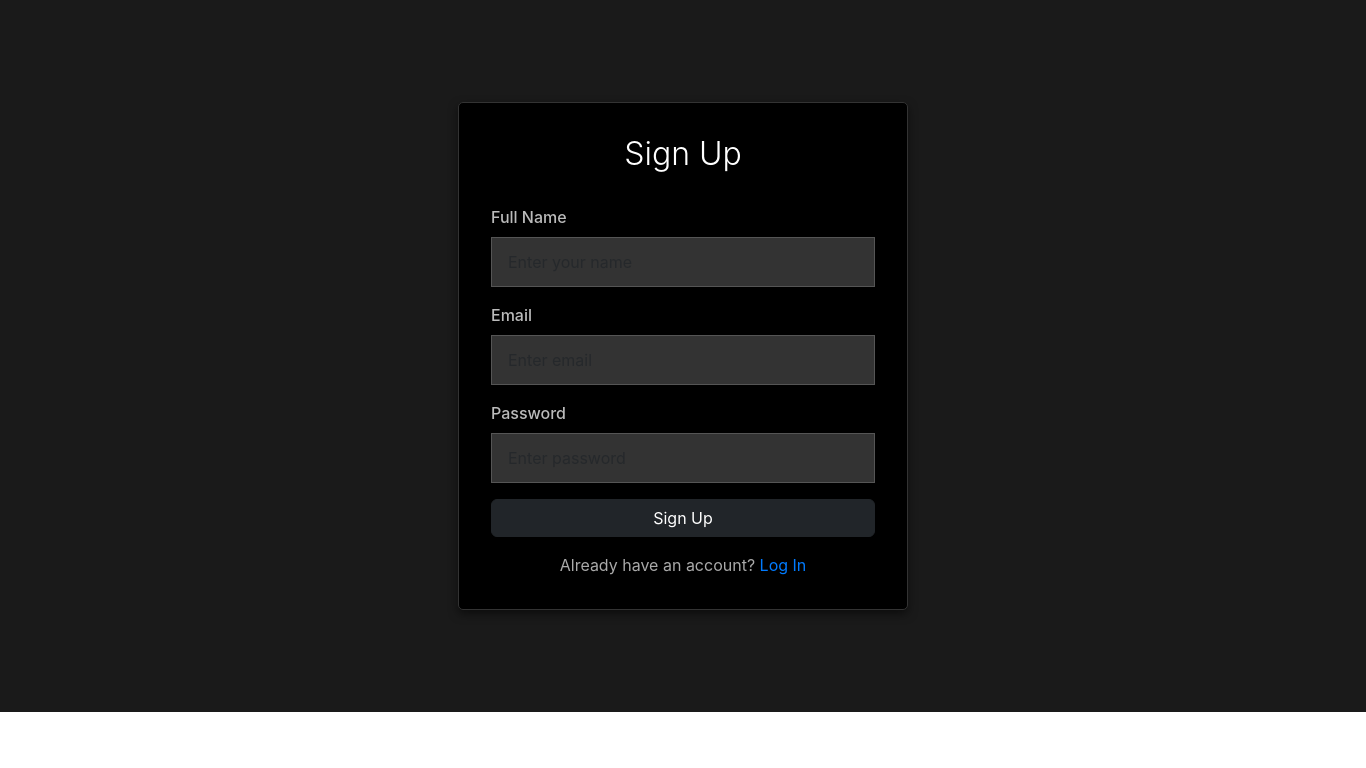
Test: EXTRA: AdminOrdersPage + SignupPage › SignupPage shows error on failed signup
In the field with placeholder "Enter your name": (683, 262) 491,237 -> 875,287, type "Nisa"
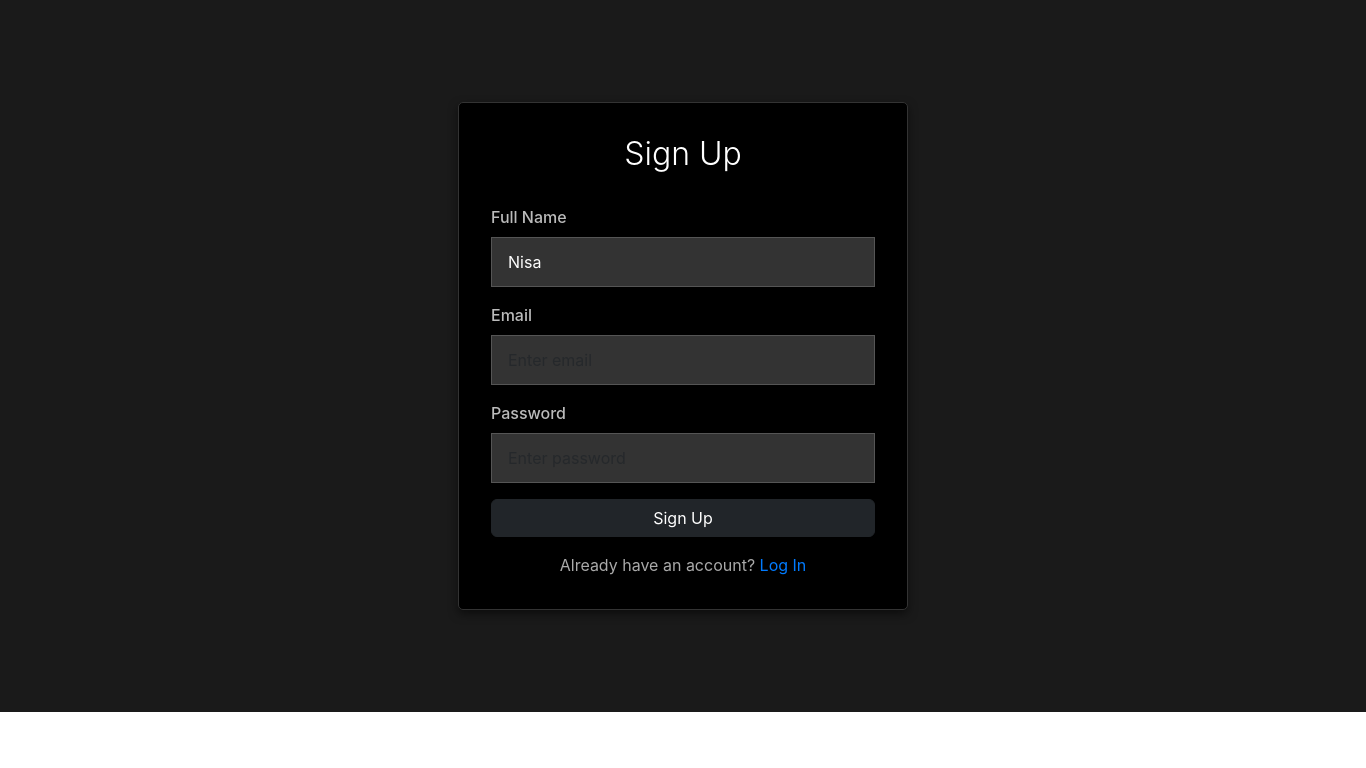
In the field with placeholder "Enter email": (683, 360) 491,335 -> 875,385, type "nisa@test.com"
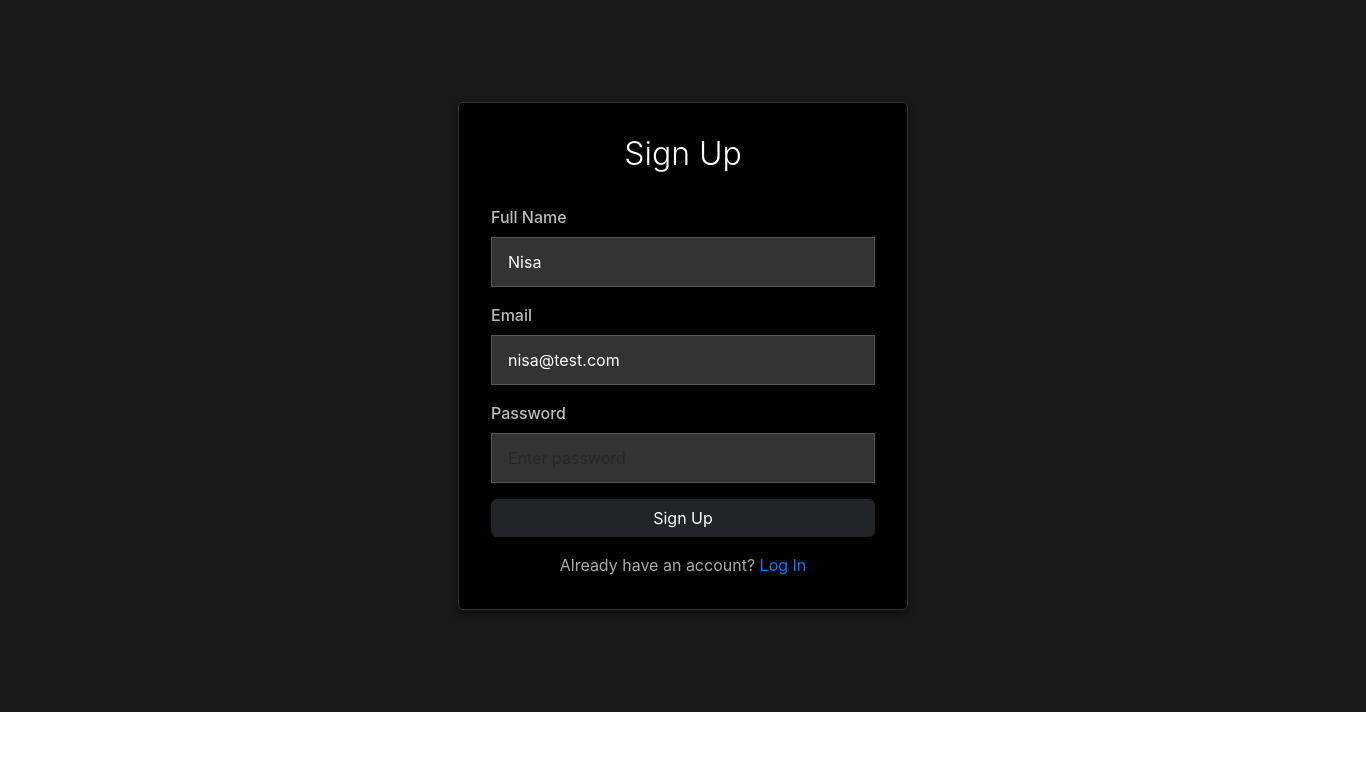
In the password field with placeholder "Enter password": (683, 458) 491,433 -> 875,483, type "123456"
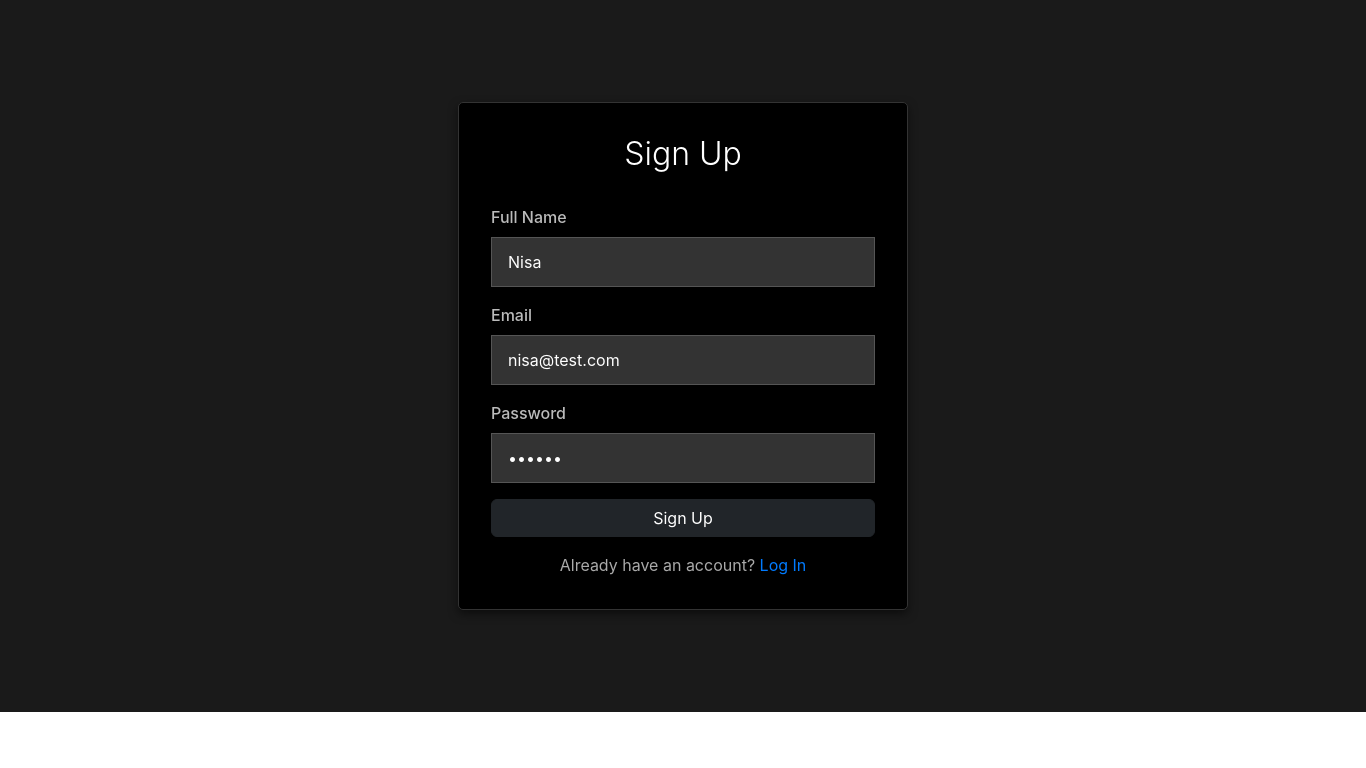
Click the button "Sign Up": (683, 518) 491,499 -> 875,537
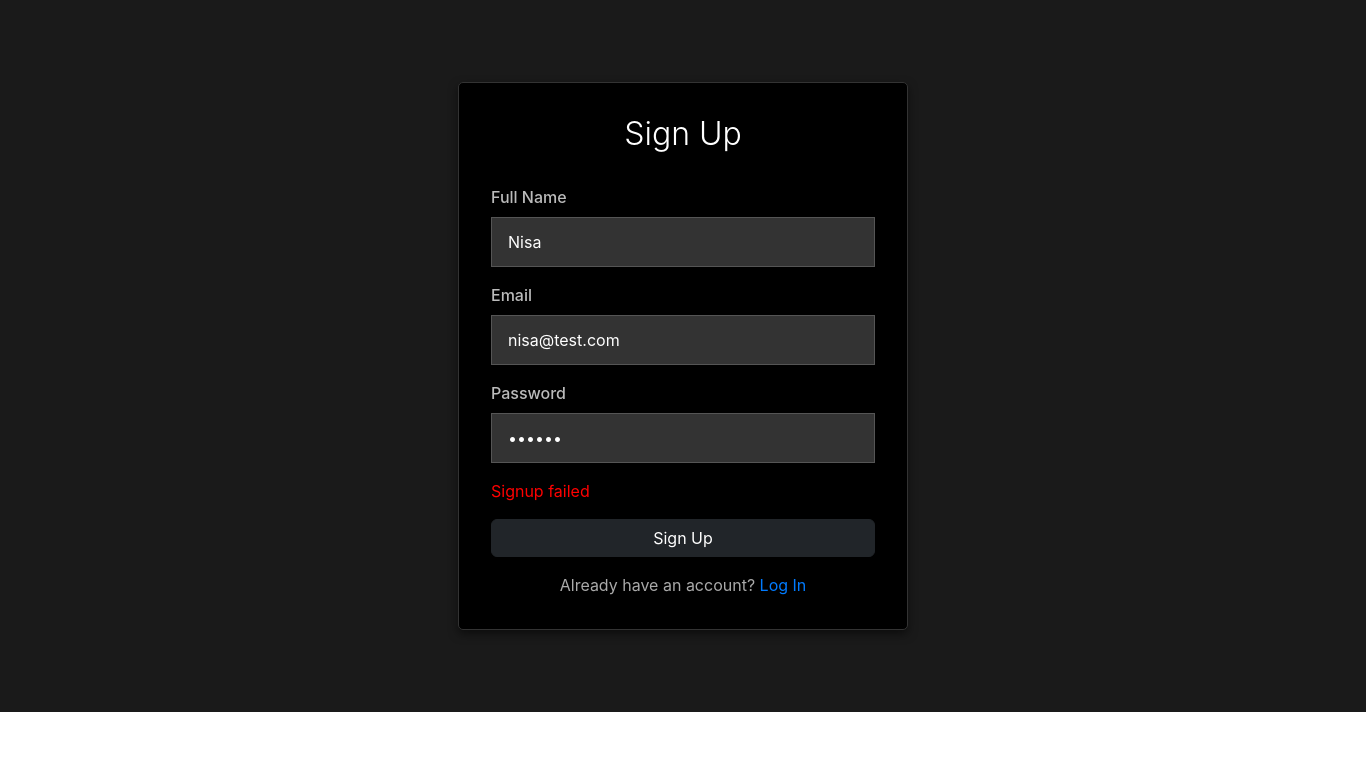
Check: the text "Signup failed" is shown, box 491,481 -> 590,501
